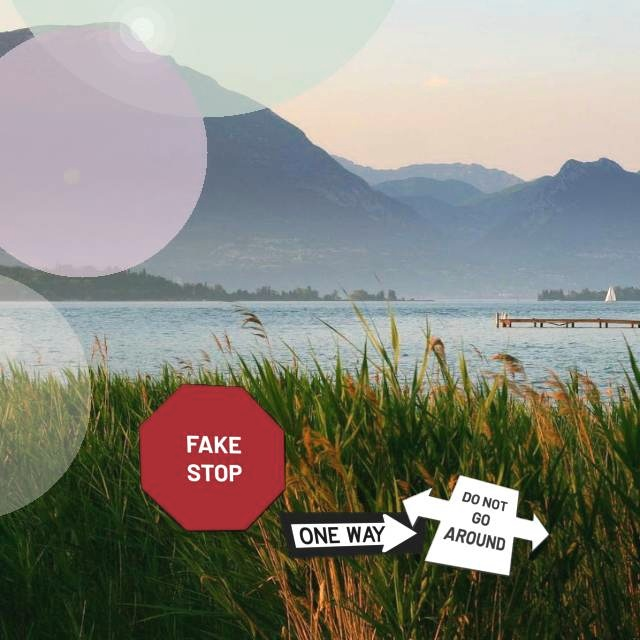DO_NOT_GO_AROUND: (401, 474, 550, 577)
FAKE_STOP: (138, 383, 286, 532)
ONE_WAY_ right: (278, 511, 427, 559)
